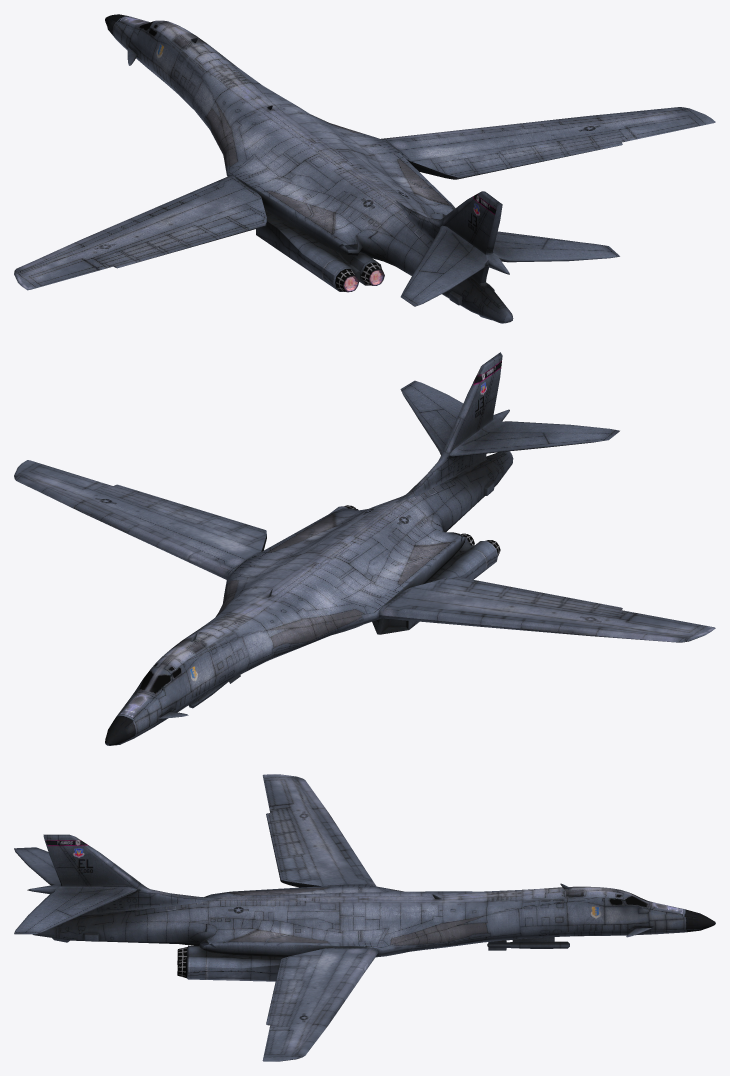
3 views of the same model, one above another, from view 1: azimuth 30°, elevation 25°; view 2: azimuth 150°, elevation 25°; view 3: azimuth 270°, elevation 25° (orthographic). The views are drawn at different scales.
Visible parts, largest first — view 1: b1_b; view 2: b1_b; view 3: b1_b.
Boxes of the visible parts, box(x1,y1,x2,y2) form: b1_b: box(14, 14, 715, 323); b1_b: box(14, 352, 715, 745); b1_b: box(14, 774, 715, 1061).
Bounding box in the file's own units: 43.03 × 8.15 × 44.43.
Materials: 1 (1 with a texture image).
